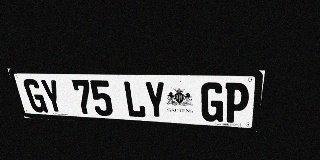5: (89, 80, 114, 116)
7: (70, 80, 96, 115)
G: (201, 82, 225, 122), (22, 79, 48, 113)
L: (122, 81, 146, 118)
P: (223, 83, 250, 123)
Y: (143, 81, 167, 119), (39, 79, 65, 114)
